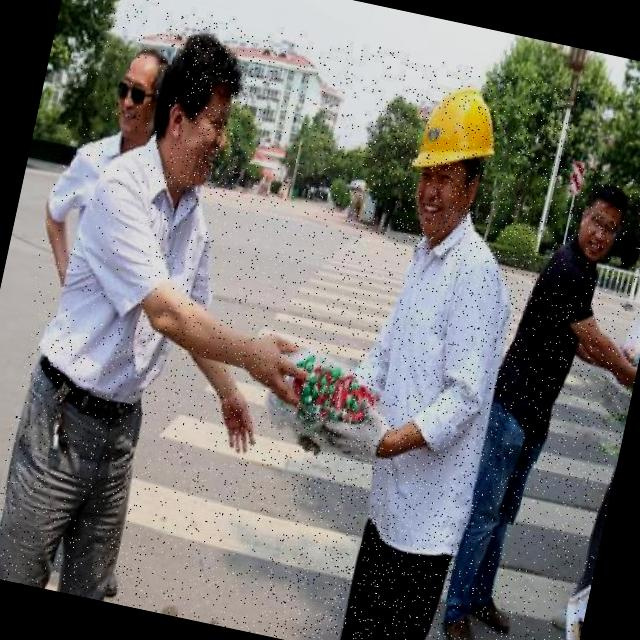gloves: (315, 380, 397, 482)
helmet: (409, 77, 507, 183)
no-boots: (466, 596, 516, 637), (435, 609, 486, 640)
no-gloves: (201, 372, 278, 459), (245, 315, 305, 402)
no-helmet: (137, 14, 286, 208), (94, 30, 176, 162), (560, 182, 634, 276)
no-vest: (320, 214, 532, 571), (31, 122, 240, 432), (486, 223, 630, 450)
